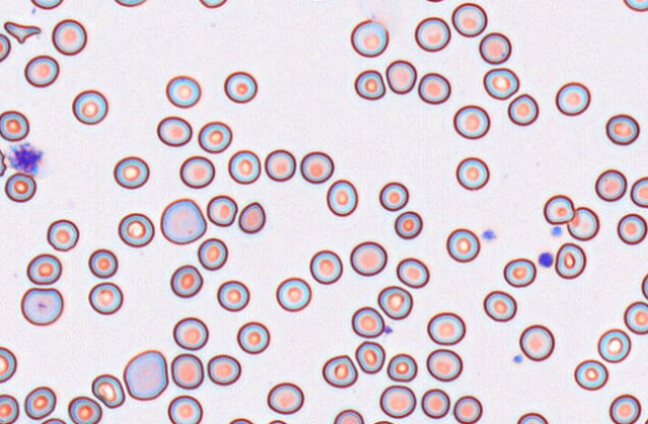PLT: (538, 251, 556, 270), (481, 228, 498, 244), (512, 352, 523, 365), (551, 225, 563, 235)
RBC: (122, 349, 168, 400), (159, 198, 206, 244), (20, 286, 63, 326), (350, 18, 388, 57), (349, 240, 387, 276), (518, 324, 554, 361), (414, 16, 451, 52), (51, 18, 87, 55), (71, 89, 108, 125), (426, 311, 465, 345), (117, 212, 154, 247), (453, 104, 490, 139), (377, 285, 413, 320), (451, 2, 487, 37), (275, 276, 311, 311), (170, 352, 204, 389), (379, 384, 416, 418), (266, 381, 304, 414), (445, 227, 480, 262), (555, 81, 590, 116), (321, 354, 357, 388), (172, 316, 208, 350), (113, 155, 149, 189), (482, 67, 519, 100), (326, 178, 358, 216), (91, 373, 125, 408), (88, 281, 123, 315), (597, 328, 631, 363), (309, 249, 343, 284), (227, 149, 261, 184), (426, 348, 462, 381), (179, 155, 215, 188), (165, 75, 201, 108), (554, 242, 586, 279), (455, 156, 489, 190), (566, 206, 599, 241), (24, 54, 59, 87), (197, 120, 232, 153), (299, 150, 334, 183), (26, 253, 62, 285), (170, 264, 203, 298), (236, 321, 270, 354), (594, 168, 627, 202), (223, 70, 257, 103), (24, 385, 56, 420), (206, 353, 241, 385), (385, 59, 417, 94), (573, 359, 608, 391), (482, 290, 517, 322), (605, 113, 640, 145), (156, 115, 192, 146), (351, 305, 384, 338), (478, 31, 511, 64), (46, 218, 79, 251), (417, 72, 451, 104), (216, 279, 249, 311), (507, 93, 539, 126), (264, 148, 296, 181), (354, 340, 385, 374), (395, 257, 429, 288), (167, 394, 203, 423), (197, 237, 228, 270), (616, 212, 647, 245), (206, 194, 237, 226), (503, 257, 536, 287), (608, 393, 641, 423), (67, 395, 102, 423), (543, 194, 574, 225), (354, 69, 385, 100), (4, 172, 36, 202), (386, 352, 417, 382), (420, 388, 450, 419), (0, 109, 29, 141), (88, 248, 118, 278), (378, 181, 408, 211), (238, 201, 265, 233), (393, 210, 422, 239), (452, 395, 482, 423), (623, 300, 647, 334), (0, 346, 17, 383), (0, 393, 19, 423), (630, 176, 647, 207), (333, 408, 364, 423), (515, 411, 549, 423), (0, 32, 11, 62), (30, 0, 64, 9), (622, 0, 648, 11), (198, 0, 228, 8), (113, 0, 147, 7), (0, 146, 7, 177), (641, 272, 648, 300), (39, 417, 67, 423), (227, 417, 255, 423), (293, 0, 344, 3), (370, 419, 396, 424), (418, 0, 451, 3), (266, 419, 287, 423)
Schistocyte: (4, 19, 41, 44)
